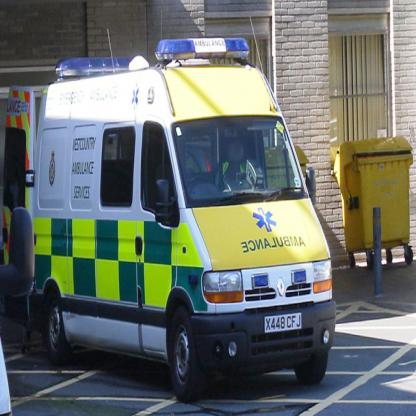Ambulance: (0, 13, 336, 386)
